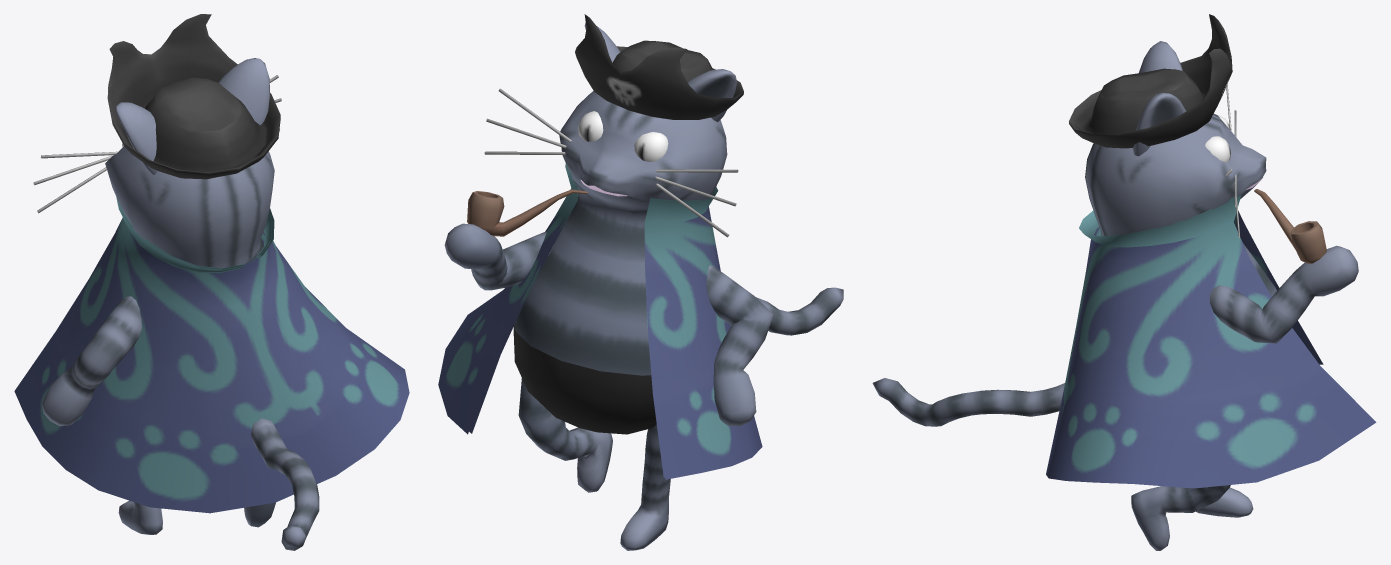
Rendered from neko_walk_a_03.fbx.
3 views of the same model, side by side, from view 1: azimuth 30°, elevation 25°; view 2: azimuth 150°, elevation 25°; view 3: azimuth 270°, elevation 25° (orthographic). The views are drawn at different scales.
Parts seen in each view (by area): view 1: W_a_03; view 2: W_a_03; view 3: W_a_03.
Part boxes in pixels (bbox=[...]): W_a_03: bbox=[14, 14, 409, 550]; W_a_03: bbox=[438, 14, 843, 550]; W_a_03: bbox=[872, 14, 1376, 550].
Bounding box in the file's own units: 1.33 × 1.98 × 1.84.
Materials: 1 (1 with a texture image).
